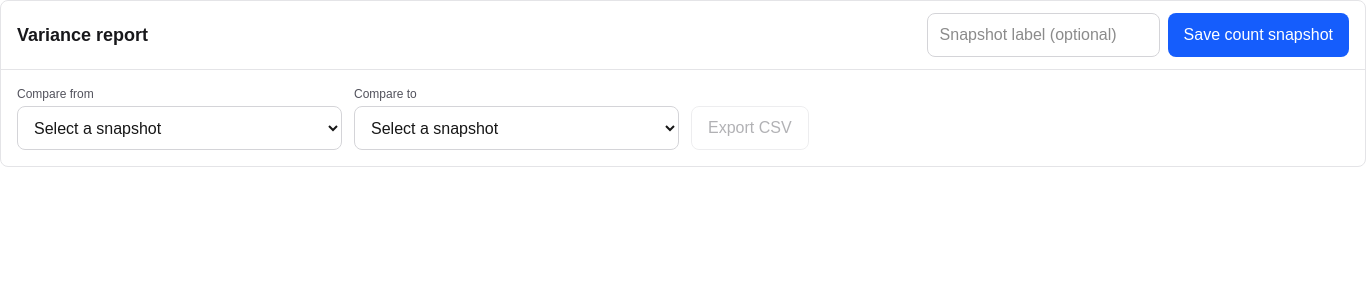
Test case: VarianceReport - compare view › shows a positive delta with a leading plus sign
The width and height of the screenshot is (1366, 289).
Select "Evening count (7/12/2026, 6:00:00 PM)" in the dropdown labelled "Compare from" at x=180, y=128, box x1=17 y1=106 x2=342 y2=150
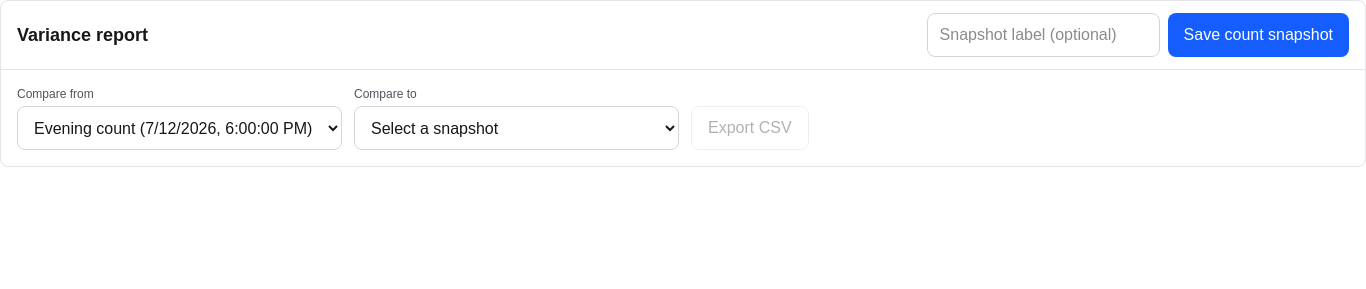
Select "Morning count (7/12/2026, 8:00:00 AM)" in the dropdown labelled "Compare to" at x=516, y=128, box x1=354 y1=106 x2=679 y2=150
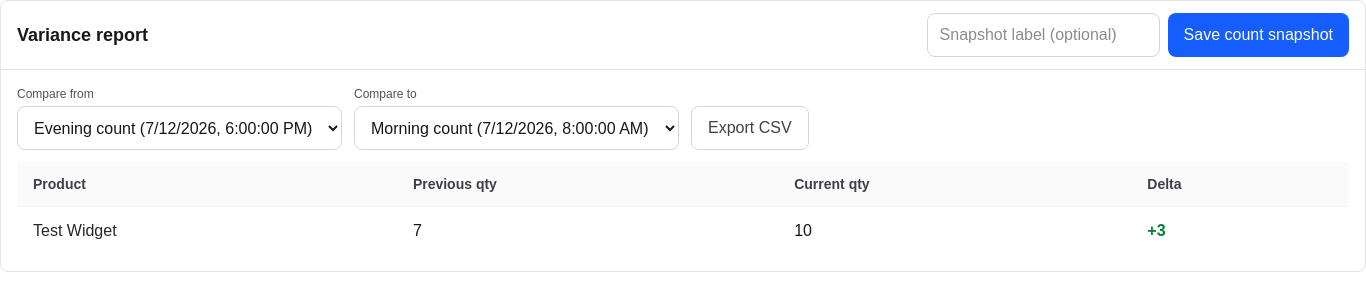
Expected: the text "+3" is shown, x1=1131 y1=206 x2=1349 y2=255
